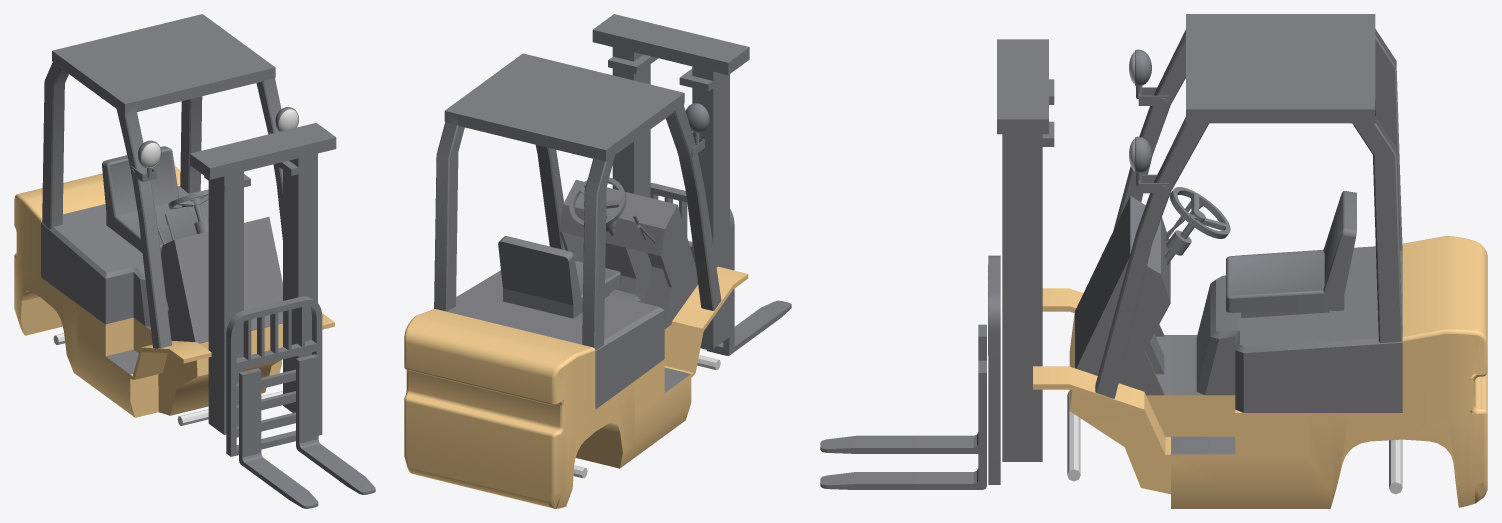
The model's file is forkliftBody.fbx.
3 renders of one model, left to right at view 1: azimuth 30°, elevation 25°; view 2: azimuth 150°, elevation 25°; view 3: azimuth 270°, elevation 25°, orthographic. The views are drawn at different scales.
Visible parts, largest first — view 1: Roof, Cube_3_2, Cube_12_2_2, Cube_3, Panel, Cube_13_2, Cube_12, Sweep, Cube_6, Cube_4, Sphere, Cube_8 (+6 smaller); view 2: Cube_3_2, Roof, Panel, Cube_3, Cube_12_2_2, Cube_12, Cube_6, Cube_4, Cube_13_2, Sweep, Cube_13_3, Tube_3 (+1 smaller); view 3: Cube_3_2, Roof, Cube_3, Cube_12_2_2, Panel, Cube_13_2, Cube_4, Cube_12, Sweep, Cube_6, Tube_3, Sphere (+2 smaller).
Part boxes in pixels (left/top/right/bottom): Roof: left=42, top=14, right=282, bottom=348; Cube_3_2: left=14, top=165, right=334, bottom=417; Cube_12_2_2: left=208, top=153, right=317, bottom=434; Cube_3: left=41, top=186, right=208, bottom=326; Panel: left=161, top=217, right=282, bottom=343; Cube_13_2: left=239, top=354, right=375, bottom=508; Cube_12: left=190, top=122, right=336, bottom=179; Sweep: left=226, top=296, right=322, bottom=456; Cube_6: left=102, top=146, right=179, bottom=224; Cube_4: left=106, top=204, right=198, bottom=253; Sphere: left=138, top=107, right=298, bottom=168; Cube_8: left=236, top=340, right=316, bottom=370; Cube_3_2: left=404, top=266, right=748, bottom=508; Roof: left=434, top=53, right=721, bottom=350; Panel: left=559, top=180, right=697, bottom=328; Cube_3: left=436, top=270, right=664, bottom=409; Cube_12_2_2: left=612, top=47, right=729, bottom=348; Cube_12: left=592, top=14, right=749, bottom=74; Cube_6: left=498, top=236, right=582, bottom=312; Cube_4: left=503, top=260, right=620, bottom=318; Cube_13_2: left=707, top=300, right=791, bottom=355; Sweep: left=650, top=183, right=734, bottom=355; Cube_13_3: left=608, top=54, right=713, bottom=91; Tube_3: left=569, top=177, right=626, bottom=226; Cube_3_2: left=1033, top=236, right=1487, bottom=508; Roof: left=1095, top=14, right=1402, bottom=398; Cube_3: left=1196, top=245, right=1402, bottom=412; Cube_12_2_2: left=1002, top=134, right=1042, bottom=461; Panel: left=1075, top=196, right=1170, bottom=395; Cube_13_2: left=820, top=324, right=986, bottom=489; Cube_4: left=1226, top=250, right=1344, bottom=312; Cube_12: left=997, top=39, right=1048, bottom=134; Sweep: left=988, top=255, right=1000, bottom=484; Cube_6: left=1323, top=191, right=1356, bottom=304; Tube_3: left=1169, top=187, right=1230, bottom=238; Sphere: left=1129, top=49, right=1151, bottom=173.
Bounding box in the file's own units: 252 × 471 × 705.
